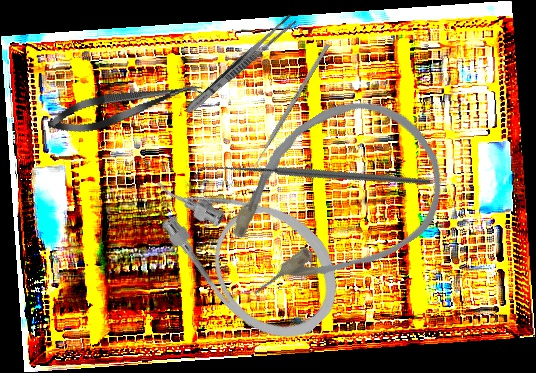Cannula: (191, 72, 468, 329), (130, 129, 362, 362)
Dressing Forceps: (182, 12, 298, 117)
Hook Surgical: (193, 68, 432, 290)
Micro Scissor: (44, 71, 206, 141)
Pusher: (248, 43, 331, 174)
